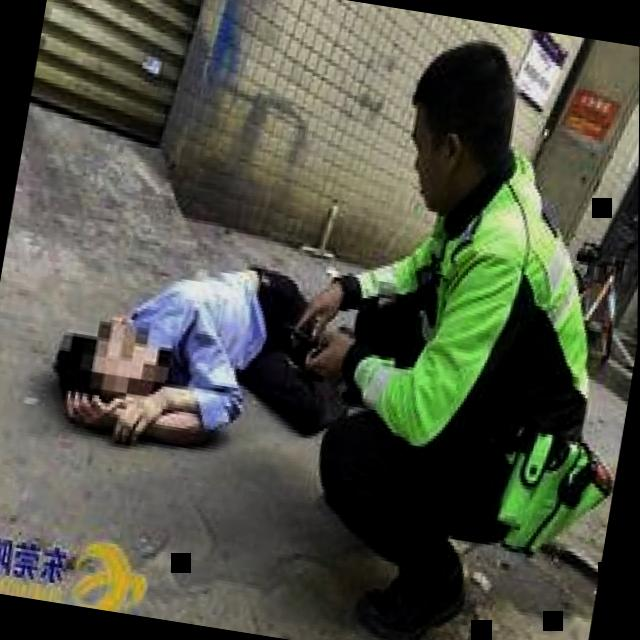Fall-Detected: (26, 208, 377, 486)
